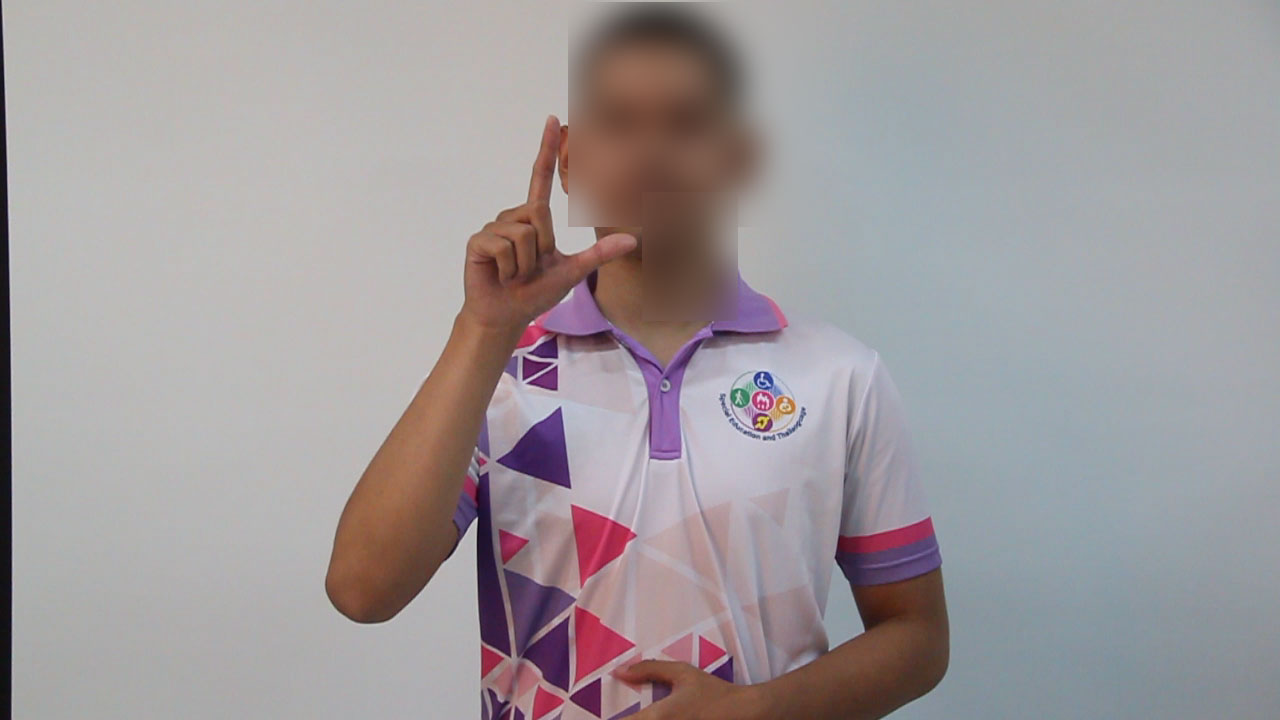lor: (421, 86, 657, 328)
